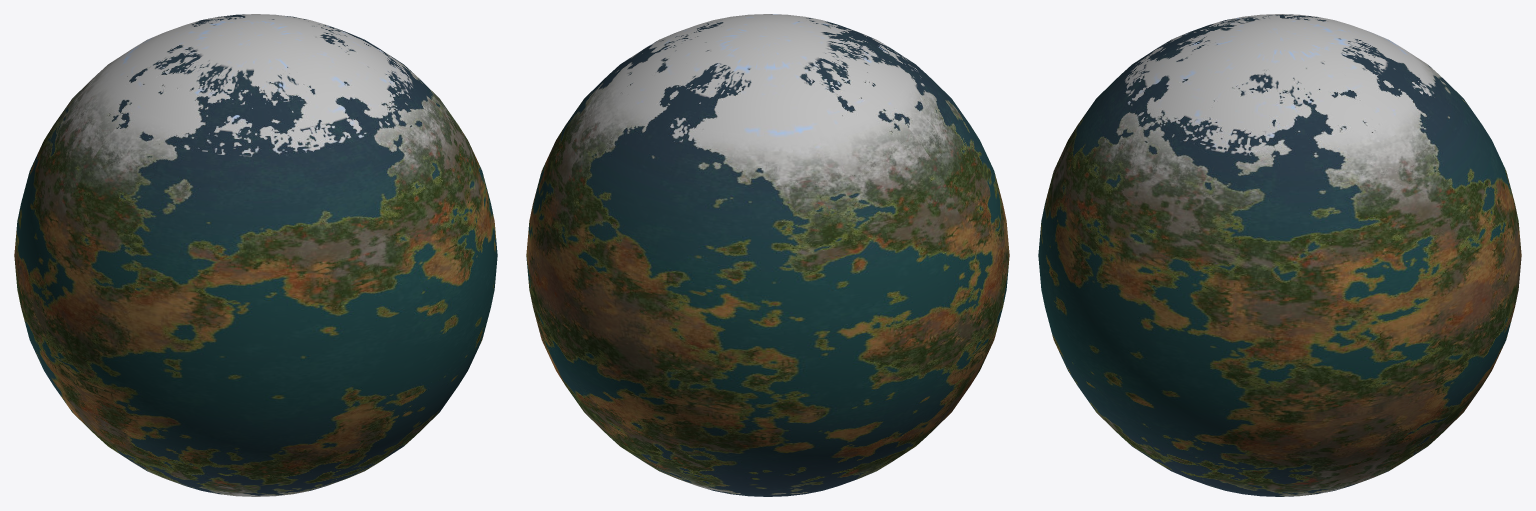
Rendered from earth.fbx.
The picture shows the model from 3 angles, left to right: view 1: azimuth 30°, elevation 25°; view 2: azimuth 150°, elevation 25°; view 3: azimuth 270°, elevation 25°; orthographic projection.
Visible parts, largest first — view 1: Object_4.001; view 2: Object_4.001; view 3: Object_4.001.
Part boxes in pixels (left/top/right/bottom): Object_4.001: left=14, top=14, right=497, bottom=496; Object_4.001: left=526, top=14, right=1009, bottom=496; Object_4.001: left=1038, top=14, right=1521, bottom=496.
Bounding box in the file's own units: 966 × 966 × 966.
